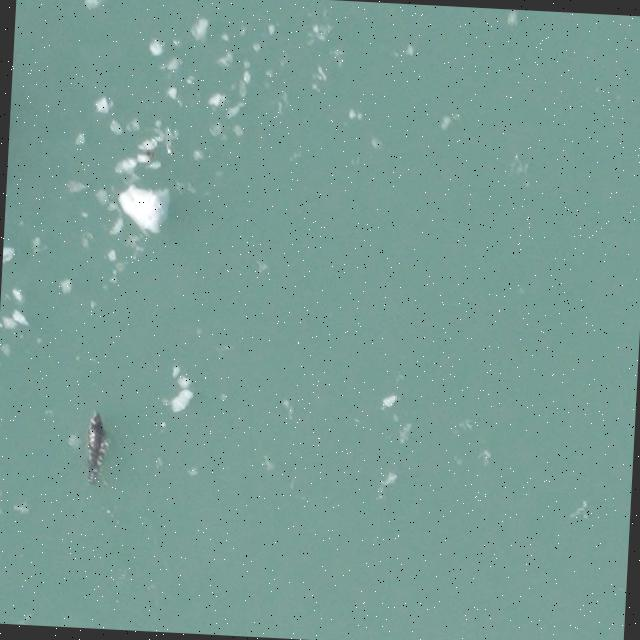seal: (85, 412, 107, 485)
